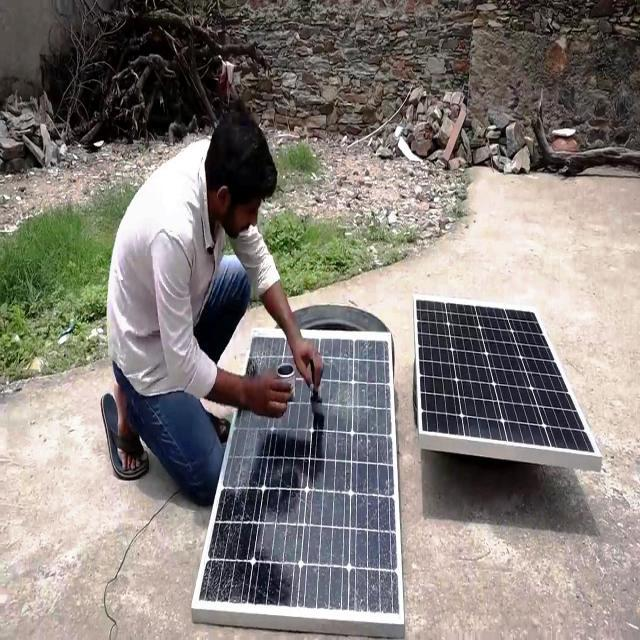faulty: (198, 315, 404, 628)
no faulty: (413, 297, 602, 465)
